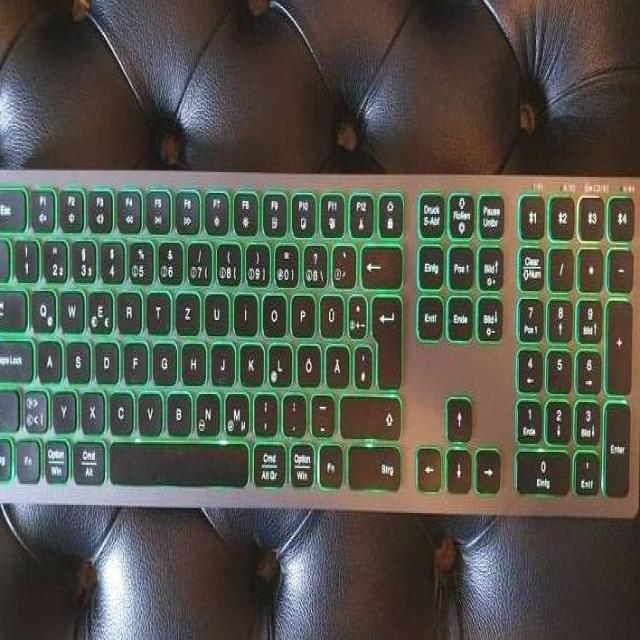0: (272, 238, 297, 283)
1: (12, 233, 36, 277)
2: (41, 233, 65, 277)
3: (69, 235, 94, 277)
4: (99, 235, 122, 278)
5: (126, 236, 152, 280)
6: (155, 236, 181, 280)
7: (185, 236, 210, 280)
8: (214, 238, 240, 281)
9: (243, 238, 268, 281)
a: (35, 334, 60, 378)
accent: (329, 238, 353, 283)
ae: (323, 339, 347, 383)
alt-left: (70, 436, 103, 481)
altgr-right: (249, 438, 285, 483)
b: (164, 387, 190, 431)
c: (107, 386, 131, 429)
caret: (0, 233, 12, 275)
comma: (251, 387, 276, 431)
d: (92, 336, 117, 380)
del: (359, 240, 400, 285)
e: (86, 285, 111, 330)
enter: (369, 289, 399, 386)
f: (121, 336, 145, 380)
g: (149, 336, 175, 380)
h: (178, 336, 204, 380)
hash: (351, 340, 370, 385)
i: (231, 288, 256, 330)
j: (208, 338, 232, 381)
k: (237, 336, 261, 381)
keyboard: (0, 161, 640, 515)
l: (266, 338, 290, 381)
less: (21, 384, 45, 428)
m: (221, 387, 247, 431)
minus: (308, 389, 333, 433)
n: (193, 387, 218, 431)
o: (259, 288, 285, 333)
oe: (295, 338, 318, 383)
p: (289, 289, 313, 333)
plus: (346, 288, 365, 334)
point: (279, 388, 305, 433)
q: (28, 285, 54, 328)
r: (114, 286, 139, 330)
s: (63, 336, 89, 378)
shift-left: (0, 384, 16, 427)
shift-lock: (0, 333, 31, 378)
shift-right: (337, 389, 399, 434)
space: (107, 437, 247, 489)
ss: (300, 240, 326, 283)
strg-left: (0, 433, 13, 478)
strg-right: (346, 441, 401, 486)
t: (144, 286, 169, 328)
tab: (0, 285, 24, 327)
u: (201, 288, 227, 331)
ue: (317, 289, 342, 333)
v: (135, 386, 160, 431)
w: (57, 285, 82, 328)
x: (79, 386, 102, 429)
y: (50, 386, 74, 428)
z: (173, 286, 198, 330)
